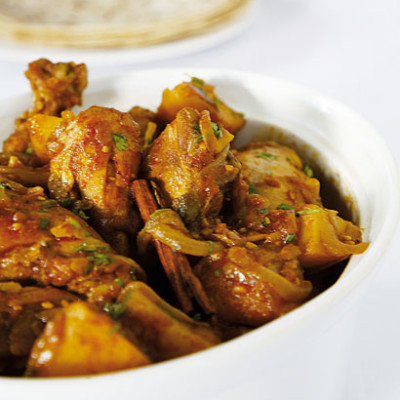chicken_curry: (11, 102, 322, 355)
